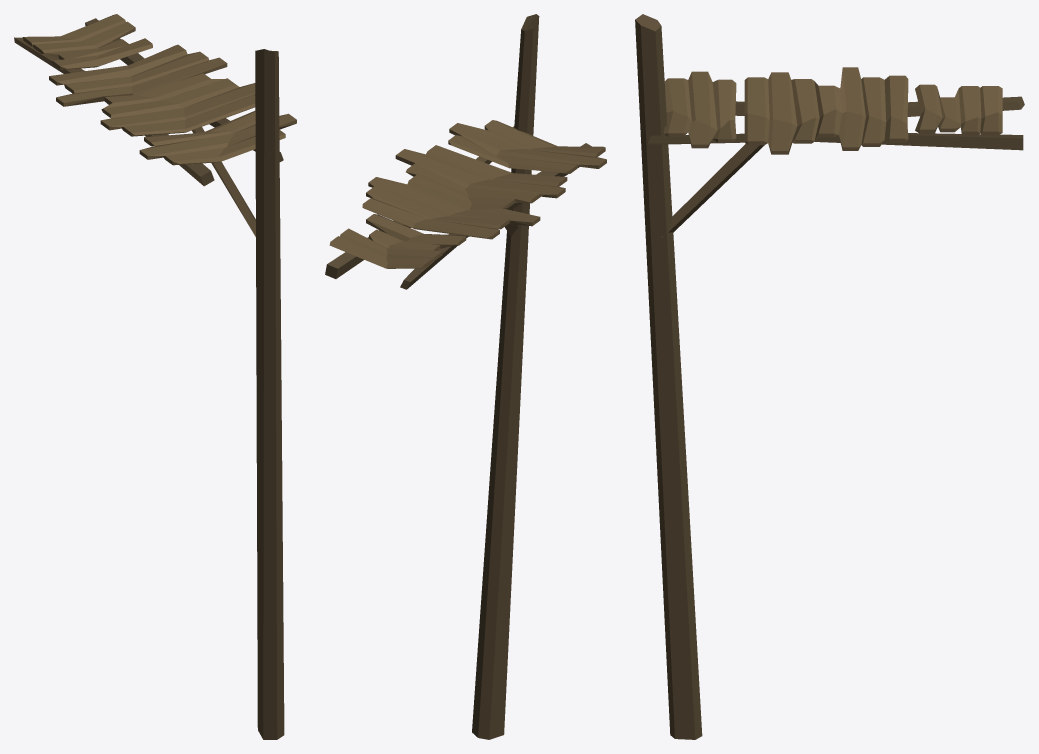
Rendered from SM_Bld_Rickety_Dock_03.glb.
3 renders of one model, left to right at view 1: azimuth 30°, elevation 25°; view 2: azimuth 150°, elevation 25°; view 3: azimuth 270°, elevation 25°, orthographic.
Visible parts, largest first — view 1: SM_Bld_Rickety_Dock_03; view 2: SM_Bld_Rickety_Dock_03; view 3: SM_Bld_Rickety_Dock_03.
Boxes of the visible parts, box(x1,y1,x2,y2) form: SM_Bld_Rickety_Dock_03: box(14, 14, 296, 739); SM_Bld_Rickety_Dock_03: box(325, 14, 606, 739); SM_Bld_Rickety_Dock_03: box(635, 14, 1024, 739).
Size of the model in its own units: 0.0209 by 0.0828 by 0.0413.
